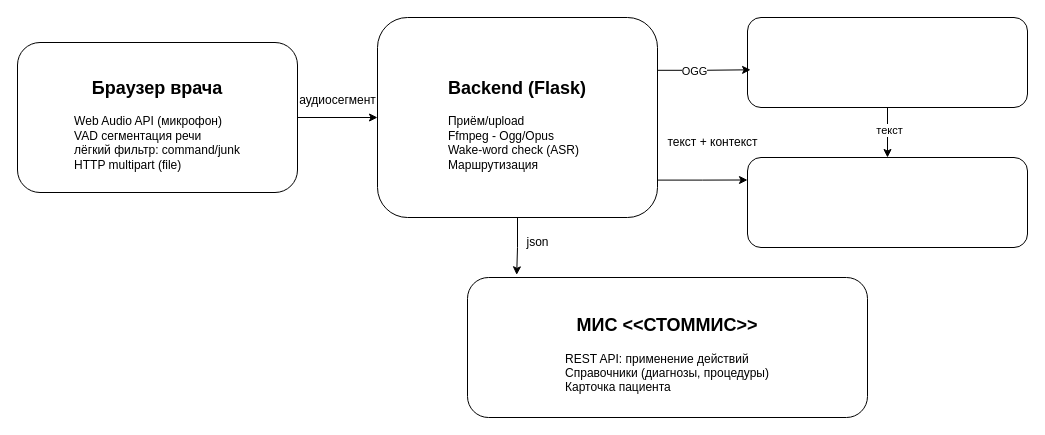
Some shapes in this 1045 by 435 pixel diagram are drawn without their labels. Each missing label, with the box of its shape:
ASR Yandex SpeechKit => транскрипция: (746, 16, 1028, 108)
LLM/NLU qwen3-235b-a22b-fp8 json intent/slots: (746, 156, 1028, 248)
